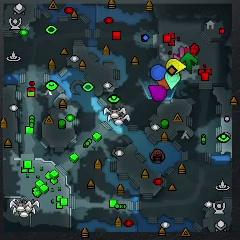p1: (151, 65, 167, 81)
p2: (166, 71, 181, 89)
p3: (148, 85, 166, 100)
p4: (167, 58, 185, 73)
p5: (157, 78, 170, 90)
x1: (174, 46, 185, 60)
x4: (181, 53, 198, 71)
